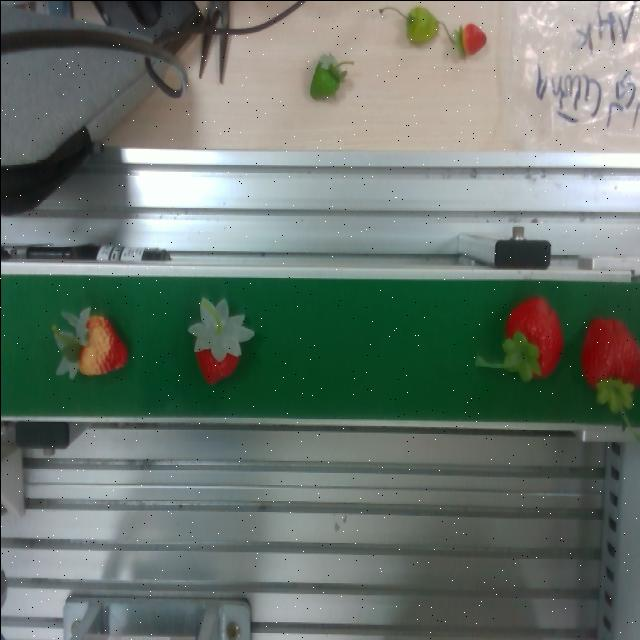Large Ripe Strawberry: (474, 294, 564, 386), (576, 308, 638, 406)
Moldy Strawberry: (54, 300, 126, 394)
Small Ripe Strawberry: (185, 308, 244, 386)
conveyor: (0, 261, 639, 429)
